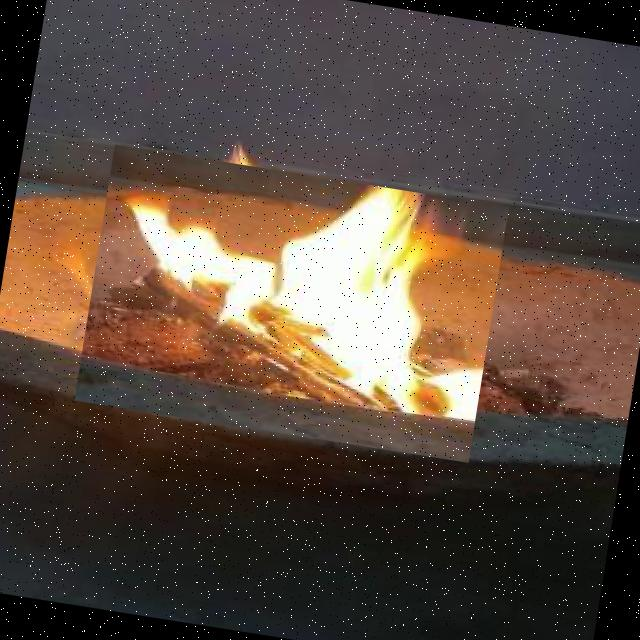fire: (74, 145, 509, 463)
